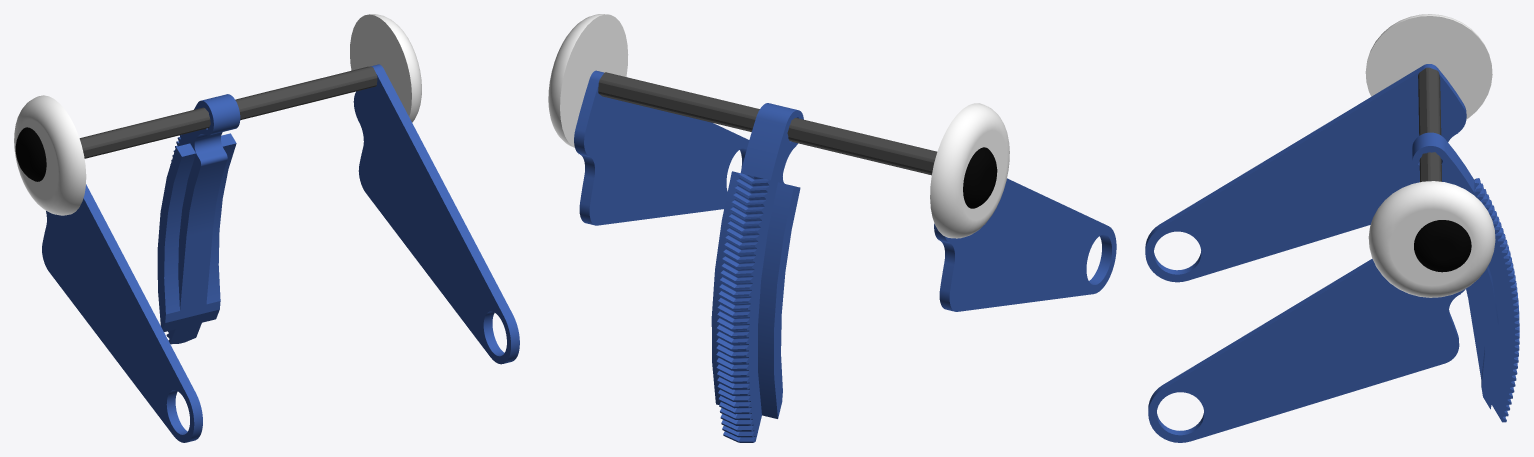
The picture shows the model from 3 angles, left to right: view 1: azimuth 30°, elevation 25°; view 2: azimuth 150°, elevation 25°; view 3: azimuth 270°, elevation 25°; orthographic projection. The views are drawn at different scales.
Parts seen in each view (by area): view 1: 157-26-ST-P-19 (×2), 157-26-ST-P-3, Googly Eye (×2), 157-26-ST-P-20; view 2: 157-26-ST-P-19 (×2), 157-26-ST-P-3, Googly Eye (×2), 157-26-ST-P-20; view 3: 157-26-ST-P-19 (×2), Googly Eye (×2), 157-26-ST-P-3, 157-26-ST-P-20.
Part boxes in pixels (x1,y1,x2,y2): 157-26-ST-P-19 (×2): (42, 64, 519, 442); 157-26-ST-P-3: (157, 94, 240, 344); Googly Eye (×2): (14, 14, 421, 215); 157-26-ST-P-20: (79, 66, 377, 158); 157-26-ST-P-19 (×2): (574, 70, 1116, 311); 157-26-ST-P-3: (711, 103, 803, 442); Googly Eye (×2): (548, 14, 1009, 238); 157-26-ST-P-20: (598, 72, 937, 175); 157-26-ST-P-19 (×2): (1145, 64, 1466, 442); Googly Eye (×2): (1365, 14, 1495, 297); 157-26-ST-P-3: (1412, 132, 1519, 422); 157-26-ST-P-20: (1418, 67, 1441, 182).
Size of the model in its own units: 0.2728 by 0.2124 by 0.2248.
